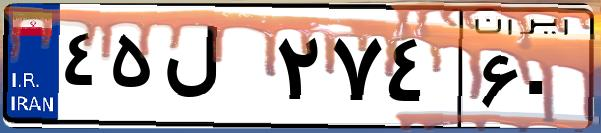0: (525, 38, 570, 115)
2: (270, 28, 330, 110)
4: (385, 28, 445, 110), (57, 26, 110, 100)
5: (110, 28, 158, 98)
6: (475, 38, 525, 113)
7: (330, 28, 385, 110)
ل: (158, 20, 270, 120)
